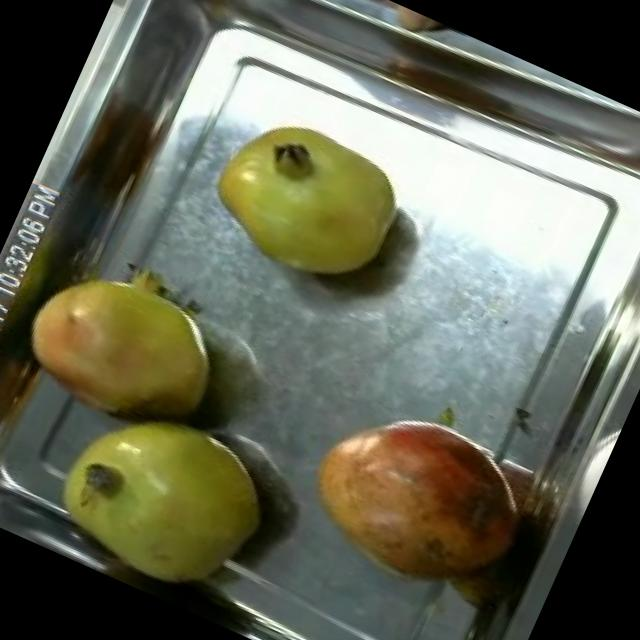fruit: (262, 343, 568, 632), (24, 370, 304, 628), (0, 217, 260, 462), (184, 91, 428, 312)
